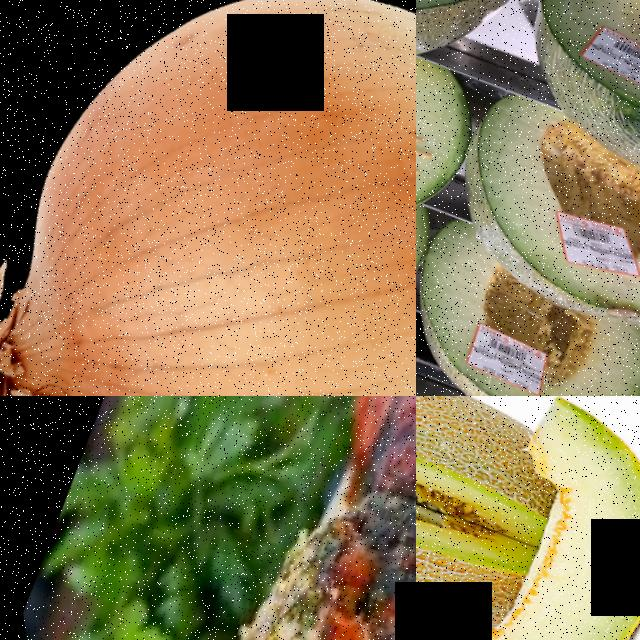lobster tails: (99, 396, 416, 640)
melon: (416, 19, 640, 319), (416, 396, 640, 640), (416, 207, 603, 396), (416, 396, 545, 640), (416, 0, 489, 239), (482, 300, 640, 396), (579, 137, 640, 362)
onion: (0, 0, 416, 396)
